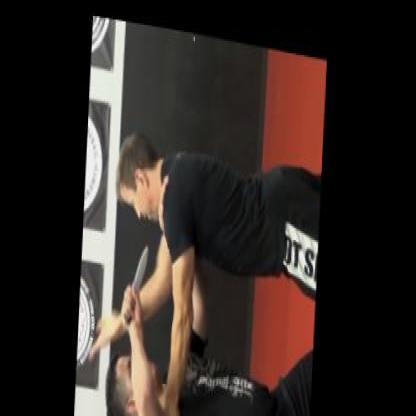knife: (121, 230, 154, 326)
